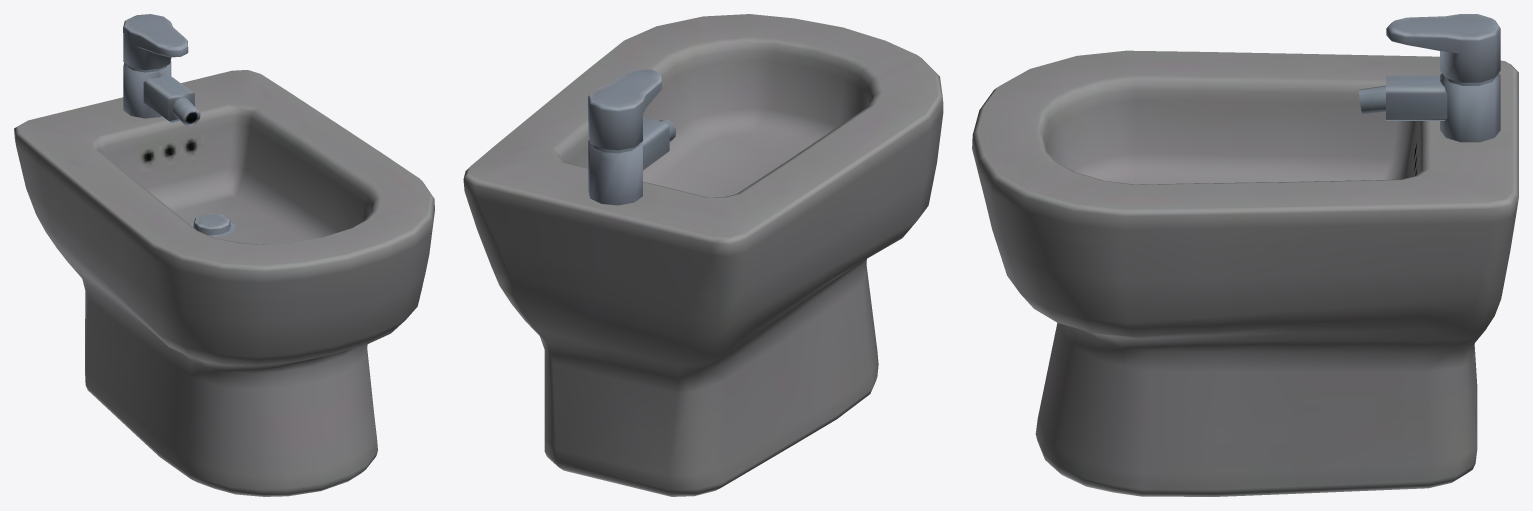
The picture shows the model from 3 angles, left to right: view 1: azimuth 30°, elevation 25°; view 2: azimuth 150°, elevation 25°; view 3: azimuth 270°, elevation 25°; orthographic projection. The views are drawn at different scales.
Size of the model in its own units: 5.09 by 6.13 by 7.23.
Materials: 1 (1 with a texture image).
